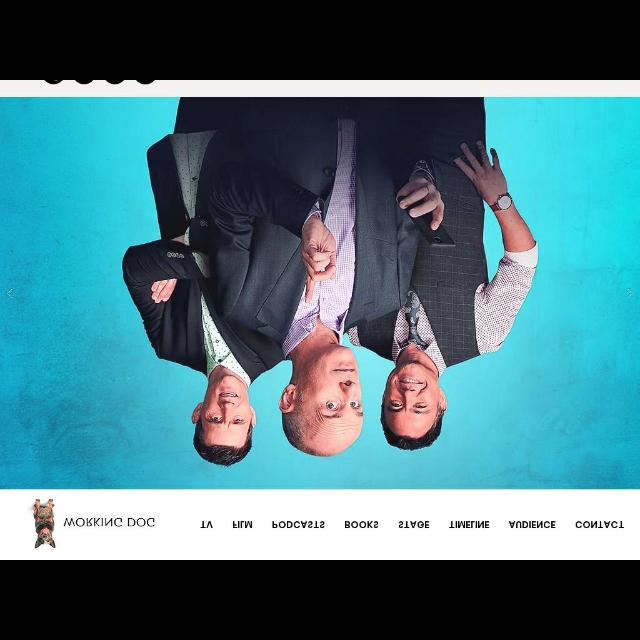image: (1, 98, 639, 488), (34, 498, 56, 548)
text: (64, 516, 156, 528), (575, 519, 625, 529), (272, 520, 324, 528), (450, 520, 490, 530), (508, 521, 556, 529), (344, 520, 380, 528), (232, 519, 254, 531), (398, 520, 429, 528), (200, 520, 214, 530)
toolbar: (1, 490, 639, 560)
